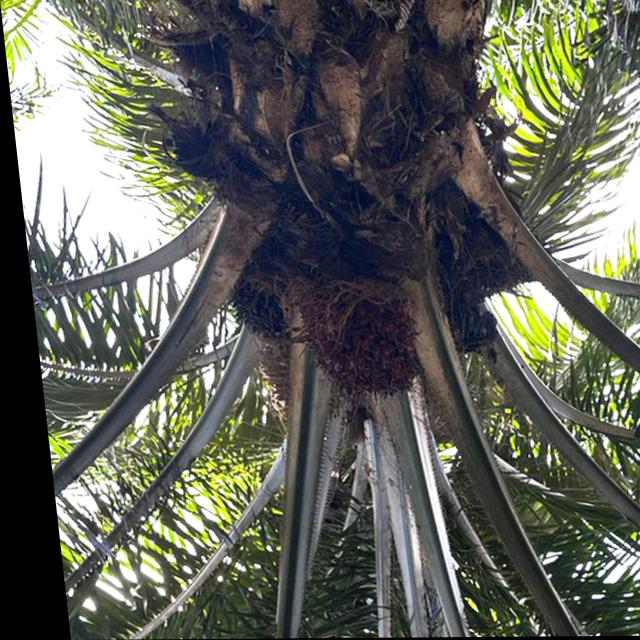ripe: (285, 290, 429, 410)
